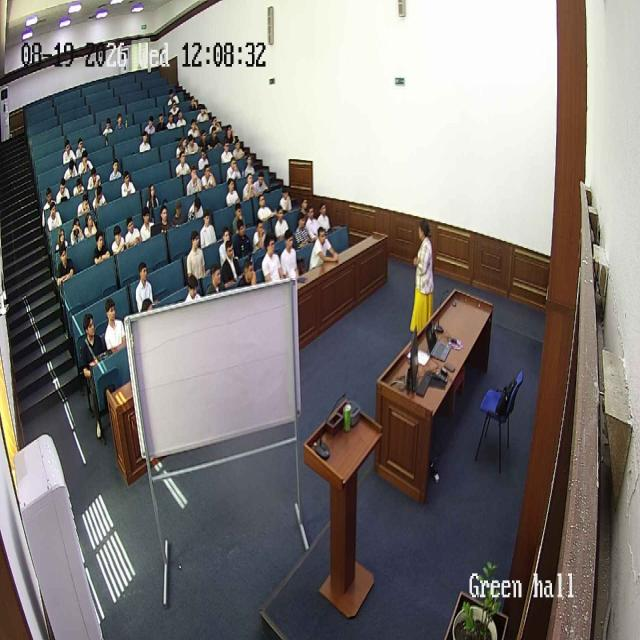person: (80, 312, 108, 436), (408, 220, 434, 335), (103, 296, 127, 353), (309, 225, 338, 268), (185, 228, 208, 281), (260, 232, 284, 282), (134, 261, 157, 313), (220, 241, 244, 289), (280, 228, 302, 280), (232, 220, 254, 265), (57, 246, 76, 292), (293, 210, 313, 250), (200, 209, 218, 248), (206, 261, 226, 296), (93, 227, 111, 265), (252, 217, 270, 254), (68, 213, 86, 247), (91, 182, 111, 212), (111, 223, 128, 257), (124, 216, 142, 248), (274, 205, 290, 241), (184, 277, 204, 305), (240, 256, 258, 287), (316, 201, 332, 235), (231, 201, 247, 235), (136, 128, 154, 158), (306, 203, 320, 241), (140, 208, 156, 241), (46, 202, 62, 235), (226, 174, 242, 207), (43, 186, 60, 216), (83, 210, 99, 241), (157, 204, 173, 234), (170, 197, 186, 227), (188, 191, 204, 221), (175, 148, 191, 178), (186, 169, 203, 196), (75, 192, 92, 219), (146, 182, 160, 214), (254, 171, 269, 200), (120, 171, 136, 198), (201, 164, 217, 191), (68, 173, 87, 195), (297, 194, 313, 220), (242, 172, 256, 201), (279, 187, 294, 214), (185, 130, 200, 157), (76, 148, 92, 173), (57, 180, 71, 206), (62, 137, 75, 165), (196, 144, 210, 170), (220, 224, 233, 251), (65, 156, 80, 179), (198, 125, 211, 151), (114, 112, 125, 142), (209, 110, 224, 132), (187, 116, 202, 138), (108, 161, 123, 182), (169, 94, 181, 120), (177, 132, 189, 158), (74, 134, 88, 156), (225, 155, 239, 177), (156, 104, 165, 137), (244, 150, 256, 174), (88, 167, 101, 189), (145, 112, 156, 138), (163, 108, 174, 134), (224, 120, 237, 142), (198, 104, 212, 124), (230, 138, 243, 159), (166, 85, 182, 102), (101, 116, 112, 140), (220, 141, 232, 163), (189, 86, 199, 110), (209, 124, 218, 148), (176, 108, 185, 131)
